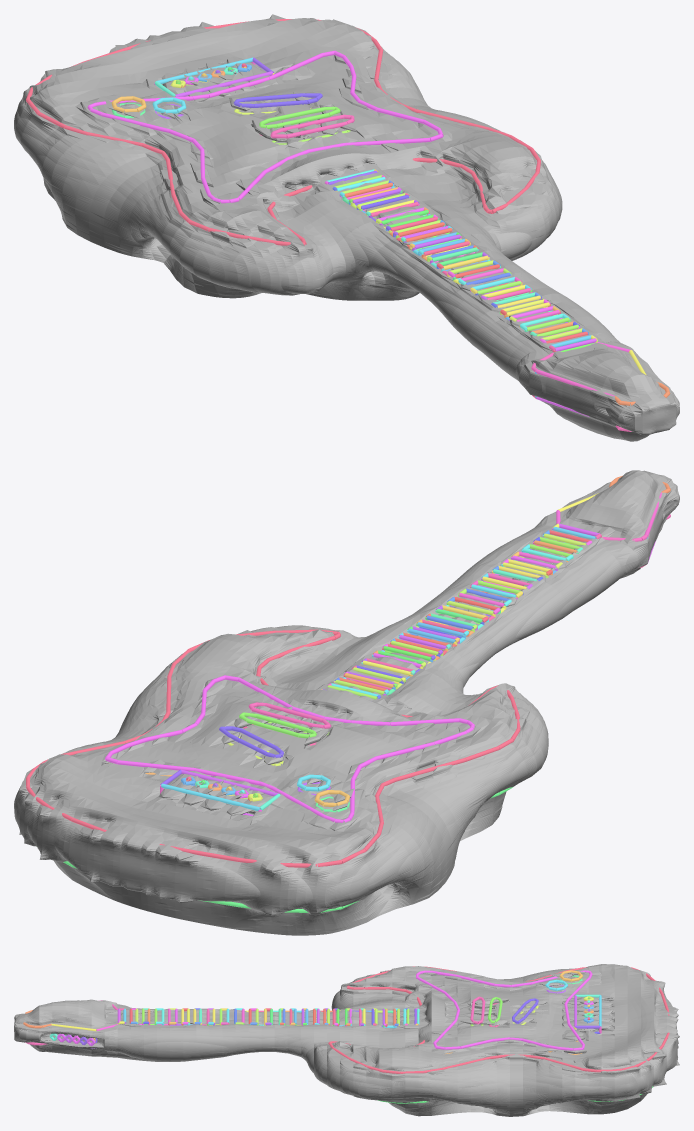
File: onshape_guitar.gltf
The picture shows the model from 3 angles, top to bottom: view 1: azimuth 30°, elevation 25°; view 2: azimuth 150°, elevation 25°; view 3: azimuth 270°, elevation 25°; orthographic projection. The views are drawn at different scales.
Bounding box in the file's own units: 0.4007 × 0.1006 × 0.9567.
